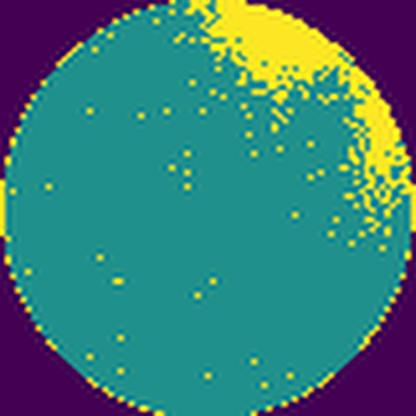Edge-Loc: (192, 0, 415, 244)
